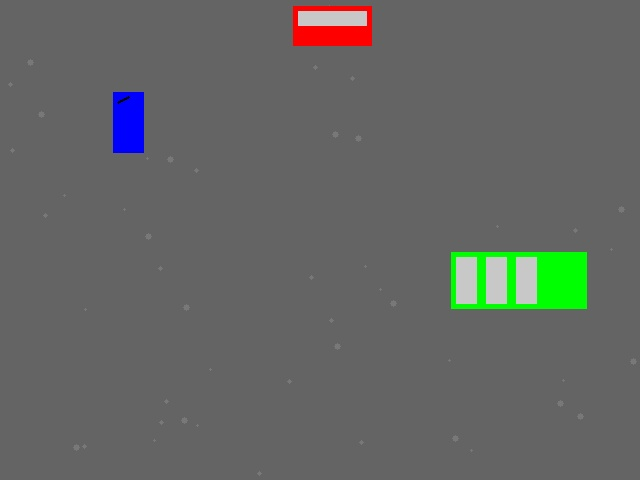bus: (451, 252, 586, 308)
car: (293, 6, 371, 45)
motorcycle: (113, 92, 143, 152)
